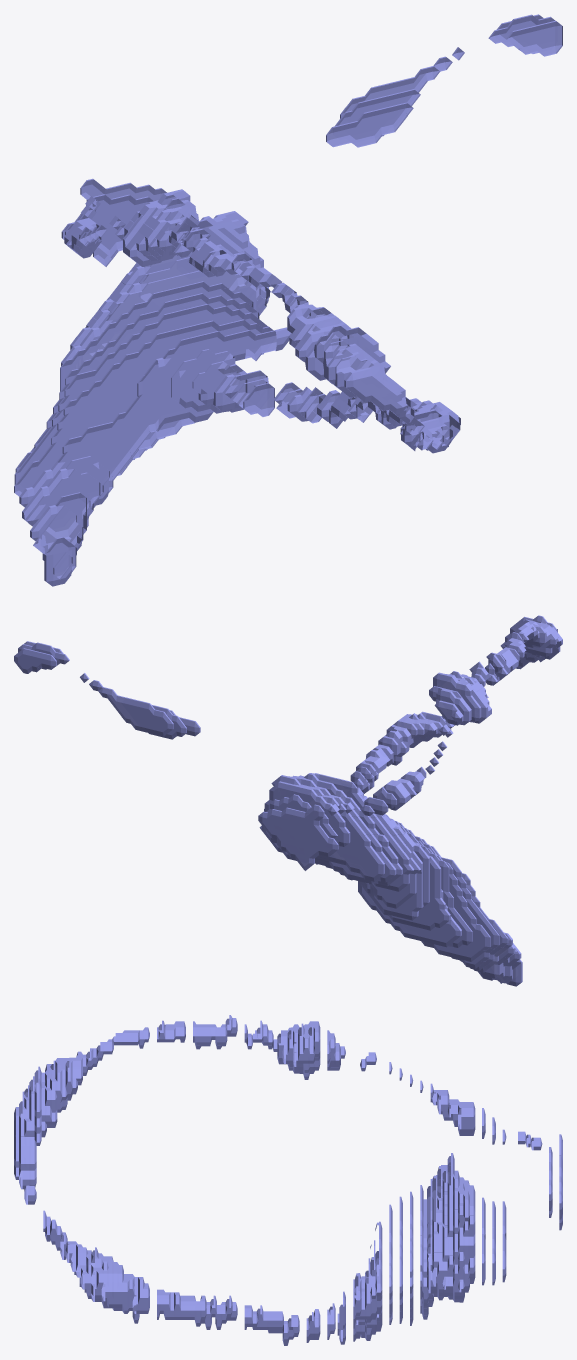
File: SVV_IL1DL.gltf
3 renders of one model, top to bottom at view 1: azimuth 30°, elevation 25°; view 2: azimuth 150°, elevation 25°; view 3: azimuth 270°, elevation 25°, orthographic. The views are drawn at different scales.
Parts seen in each view (by area): view 1: IL1DL; view 2: IL1DL; view 3: IL1DL.
Boxes of the visible parts, x1,y1,x2,y2 form: IL1DL: (14, 14, 562, 586); IL1DL: (14, 615, 562, 986); IL1DL: (14, 1015, 562, 1345).
Bounding box in the file's own units: 49174 × 29716 × 40862.
